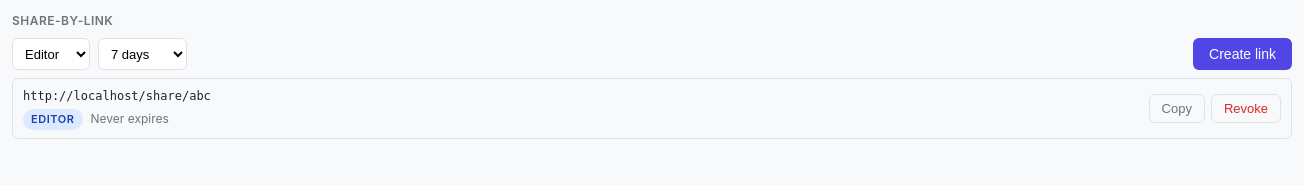
ShareLinksPanel › restores the link if revoke fails
The image size is (1304, 185).
expect the text "http://localhost/share/abc" is shown: met, box left=23, top=89, right=211, bottom=103
Click the button with aria-label "revoke link": (1246, 108) left=1211, top=94, right=1281, bottom=123
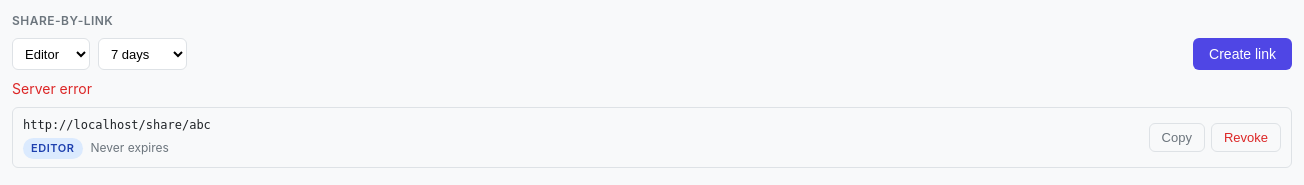
expect the text "http://localhost/share/abc" is shown: met, box left=23, top=118, right=211, bottom=132
expect the message reads "Server error": met, box left=12, top=80, right=92, bottom=97
